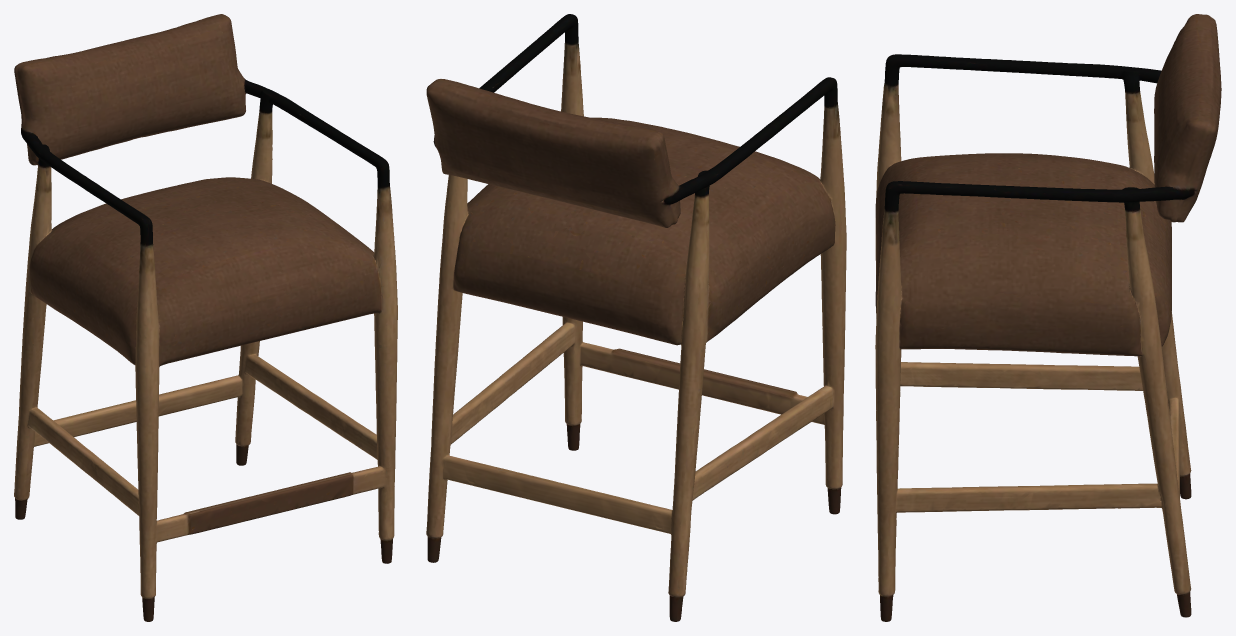
The model's file is item-16.glb.
3 views of the same model, side by side, from view 1: azimuth 30°, elevation 25°; view 2: azimuth 150°, elevation 25°; view 3: azimuth 270°, elevation 25° (orthographic). The views are drawn at different scales.
Parts seen in each view (by area): view 1: geometry_0; view 2: geometry_0; view 3: geometry_0.
Boxes of the visible parts, x1,y1,x2,y2 form: geometry_0: [14, 14, 397, 621]; geometry_0: [426, 14, 846, 621]; geometry_0: [875, 14, 1221, 621].
Bounding box in the file's own units: 0.6103 × 1 × 0.6439.
1 material, 1 textured.
